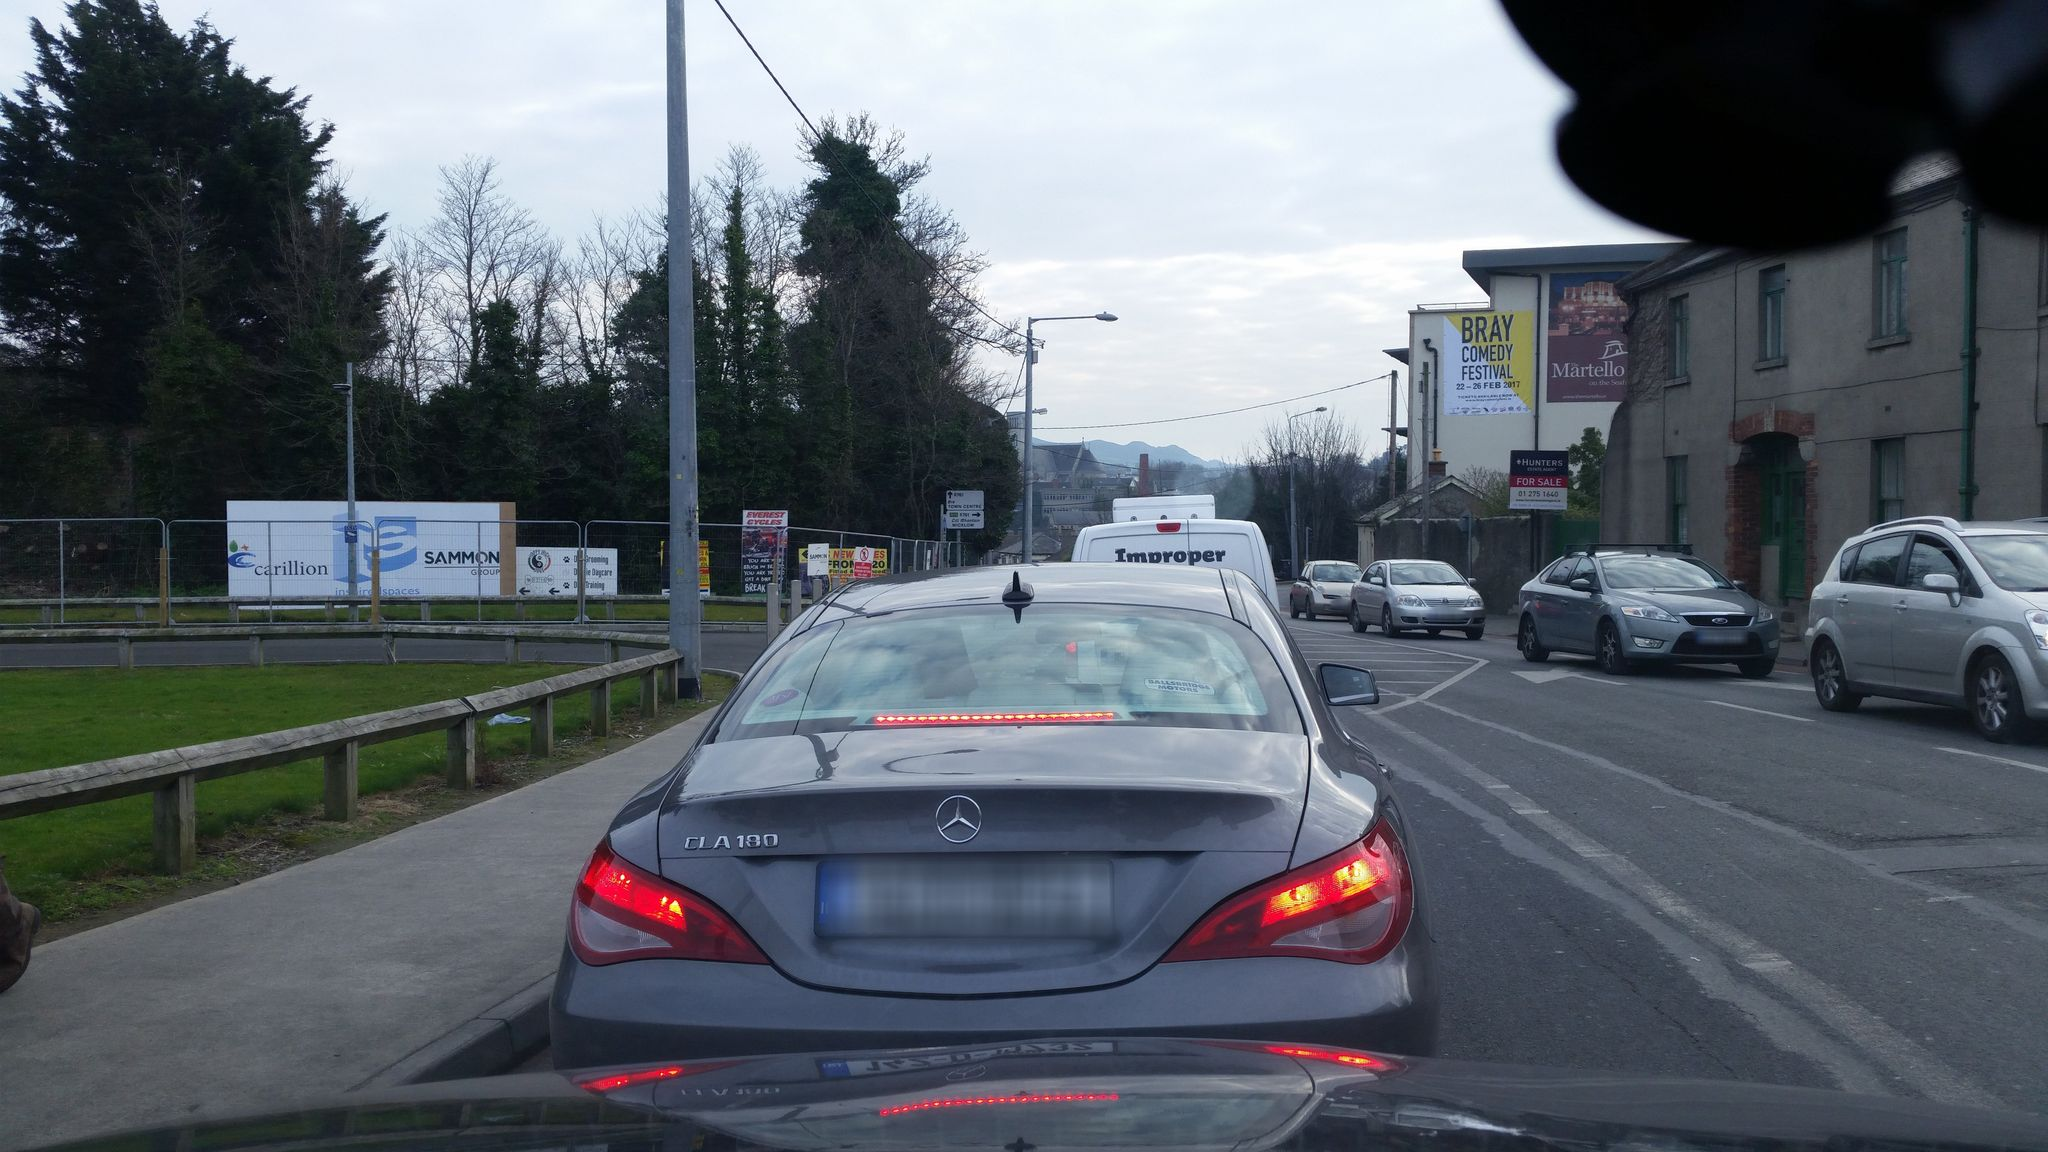property sign: (1499, 430, 1578, 513)
